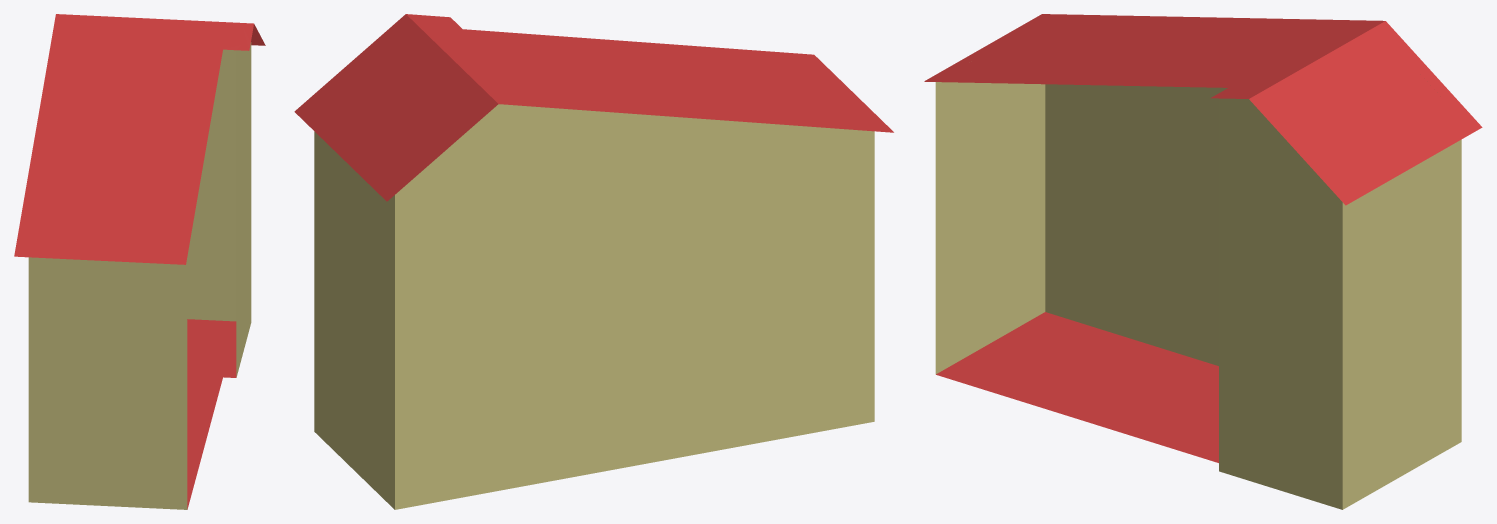
3 views of the same model, side by side, from view 1: azimuth 30°, elevation 25°; view 2: azimuth 150°, elevation 25°; view 3: azimuth 270°, elevation 25° (orthographic). The views are drawn at different scales.
Bounding box in the file's own units: 8.49 × 9.3 × 7.15.
